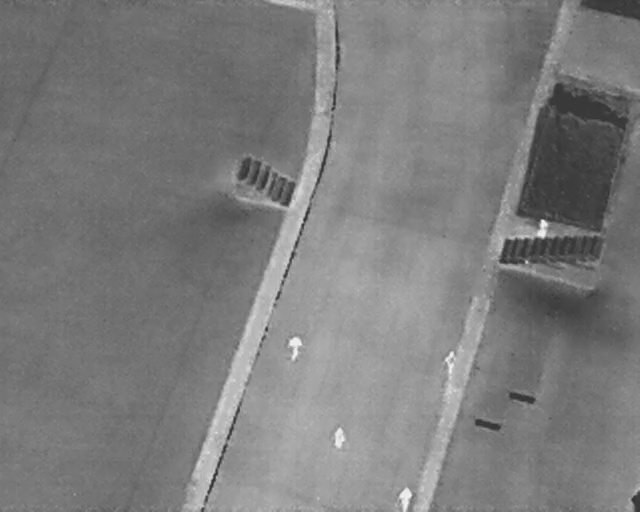Person: (286, 333, 303, 363), (397, 484, 415, 511), (443, 349, 457, 382), (331, 425, 348, 451), (534, 217, 550, 241)
